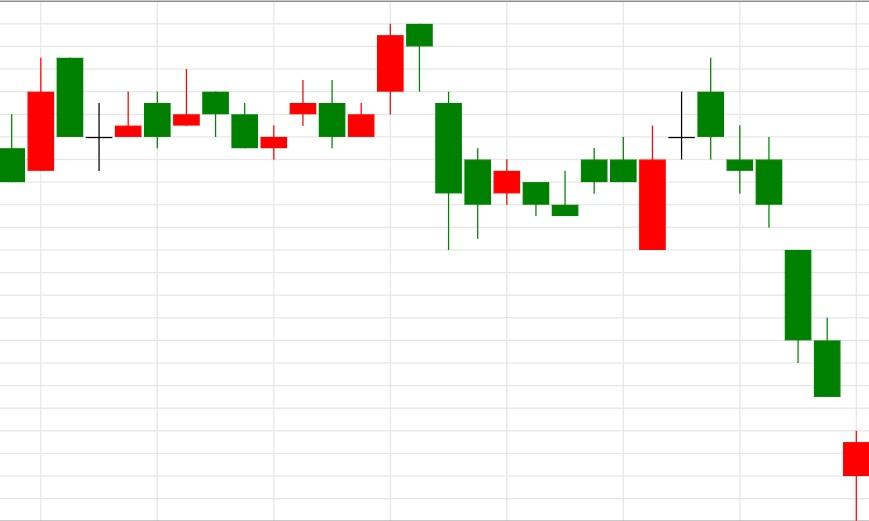hanging_man_fall: (318, 23, 434, 149)
